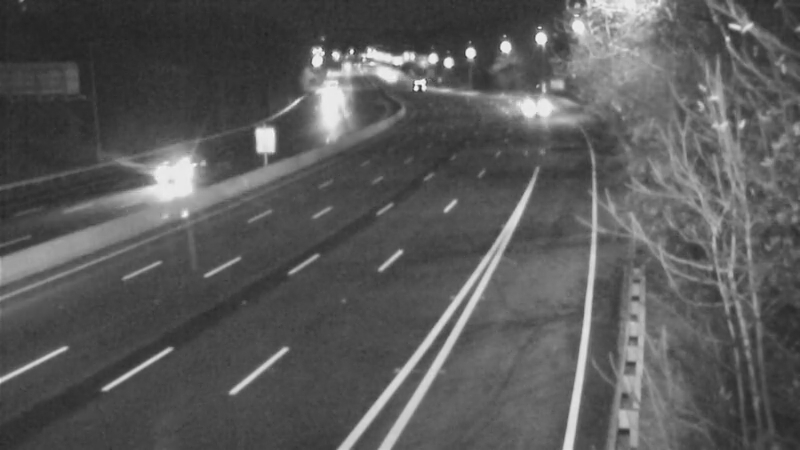vehicle: (142, 135, 222, 215), (392, 60, 442, 110), (364, 53, 414, 103), (502, 82, 552, 132)
